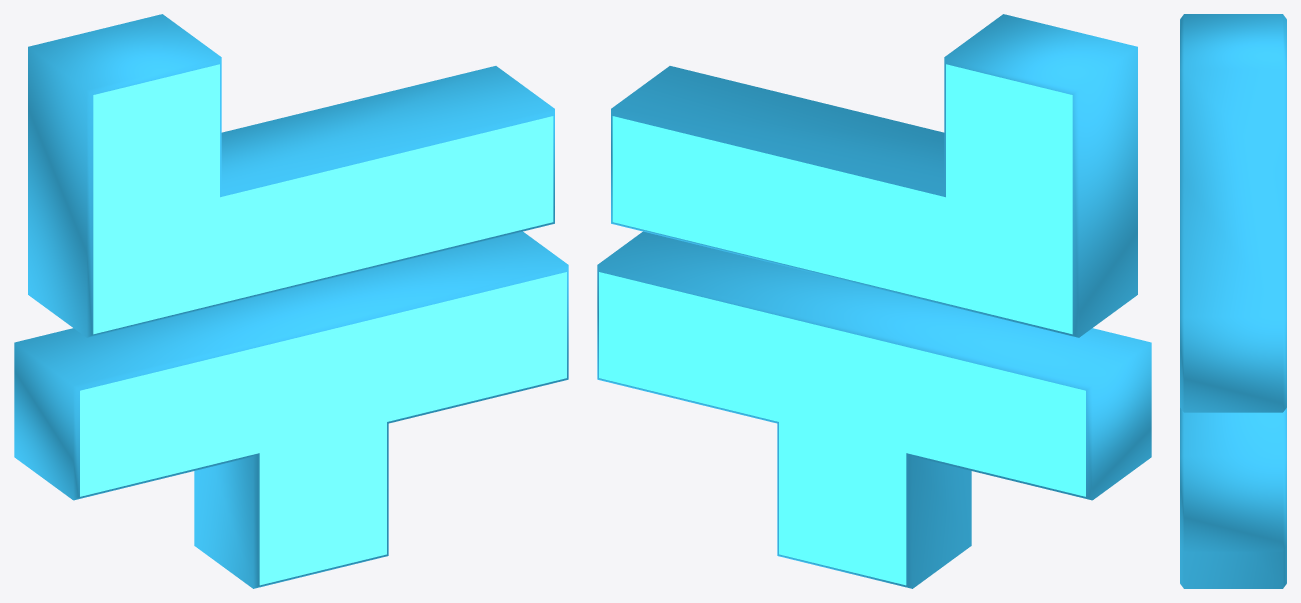
3 views of the same model, side by side, from view 1: azimuth 30°, elevation 25°; view 2: azimuth 150°, elevation 25°; view 3: azimuth 270°, elevation 25° (orthographic). The views are drawn at different scales.
Visible parts, largest first — view 1: glyph; view 2: glyph; view 3: glyph.
Part boxes in pixels (x1,y1,x2,y2): glyph: [14, 14, 568, 588]; glyph: [597, 14, 1151, 588]; glyph: [1180, 14, 1286, 588].
Bounding box in the file's own units: 0.0726 × 0.0756 × 0.0162.
